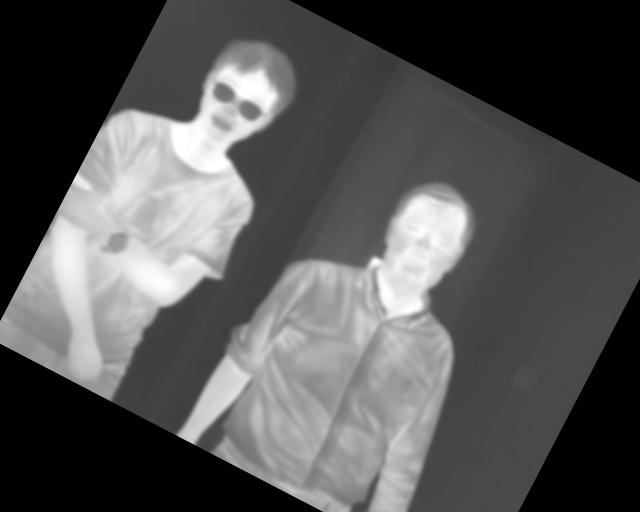face: (359, 165, 489, 313), (179, 24, 308, 165)
